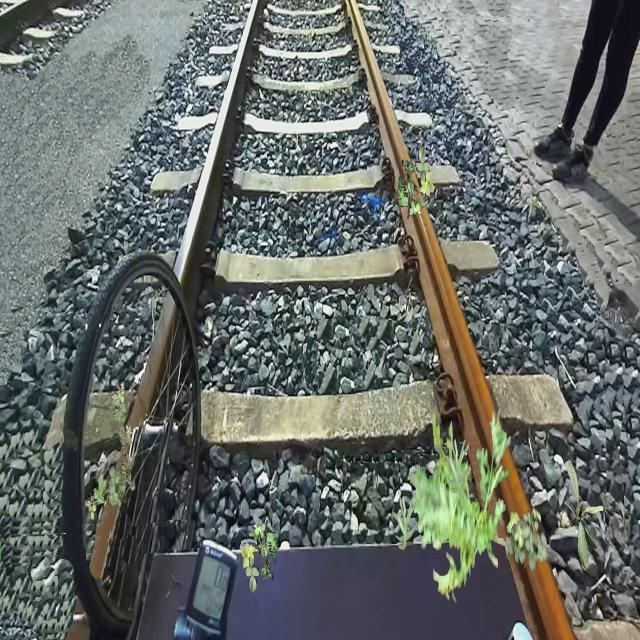Plant: (410, 407, 535, 603), (87, 382, 136, 520), (564, 460, 604, 570), (505, 506, 548, 572), (241, 520, 278, 594), (397, 146, 434, 220), (445, 437, 472, 494), (393, 494, 420, 550)
